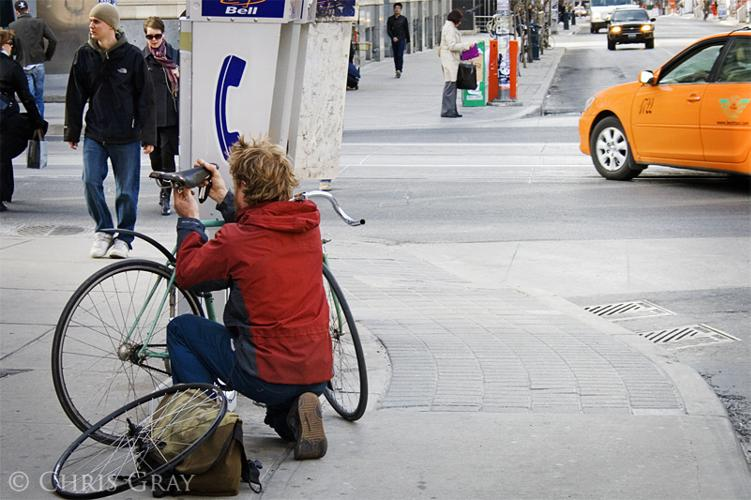person: (167, 137, 341, 462)
